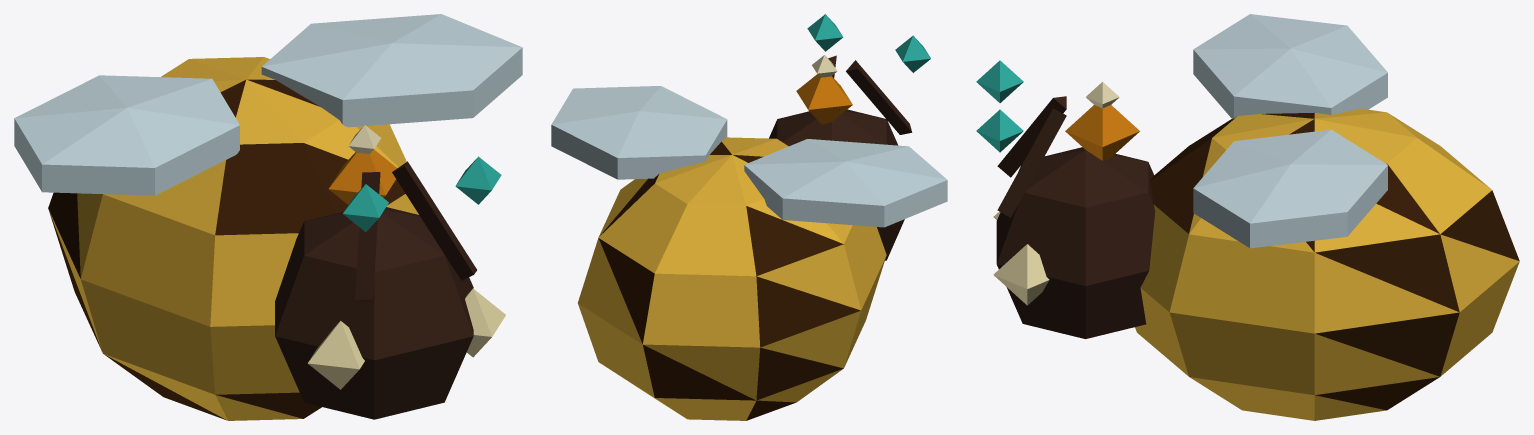
The model's file is skin-bee-starter.glb.
The picture shows the model from 3 angles, left to right: view 1: azimuth 30°, elevation 25°; view 2: azimuth 150°, elevation 25°; view 3: azimuth 270°, elevation 25°; orthographic projection. The views are drawn at different scales.
Size of the model in its own units: 1.45 by 1.04 by 1.59.
